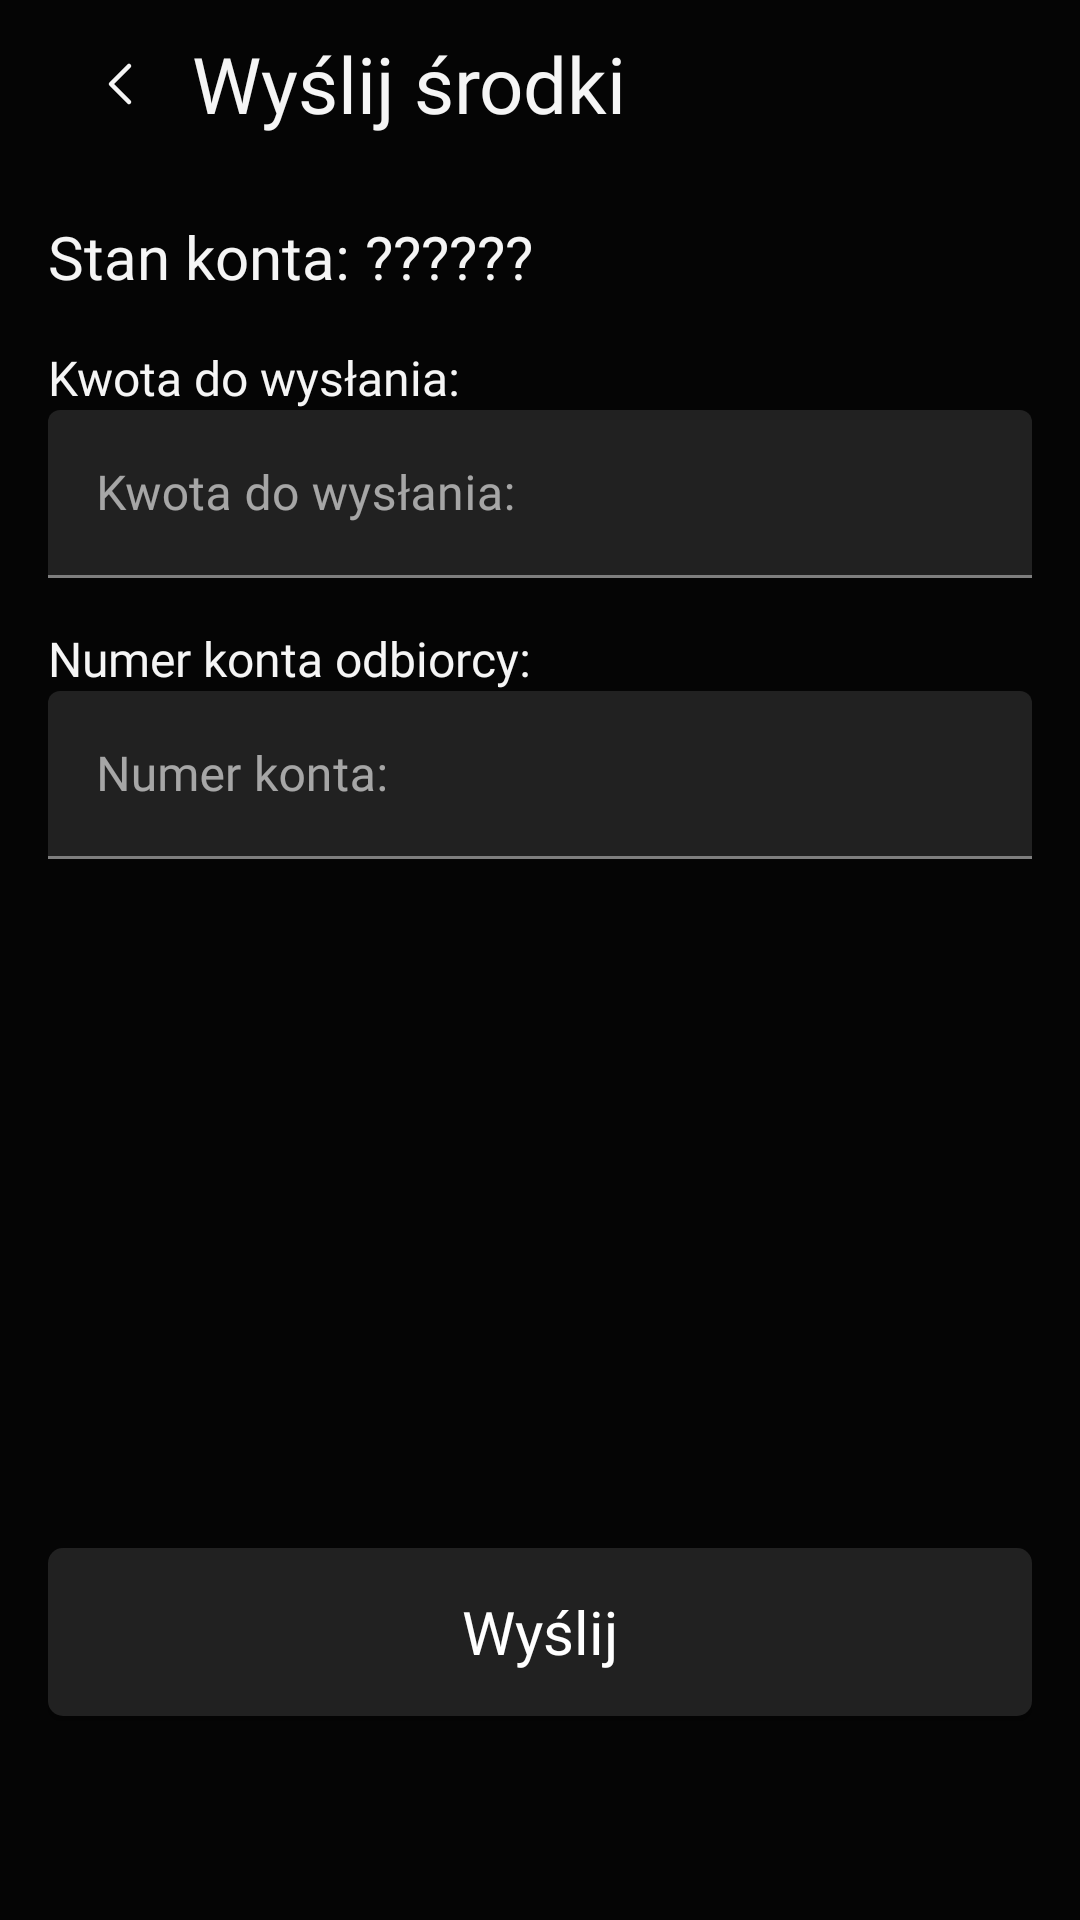

Icon bounding boxes for this 1080x1920 phone screenshot, format [x1,y1,x2,y2]:
Go Back: [108,63,132,105]
